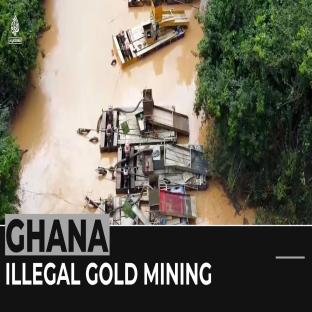ProcessingEquipment: (89, 85, 205, 153), (108, 1, 207, 71), (115, 141, 210, 200)
